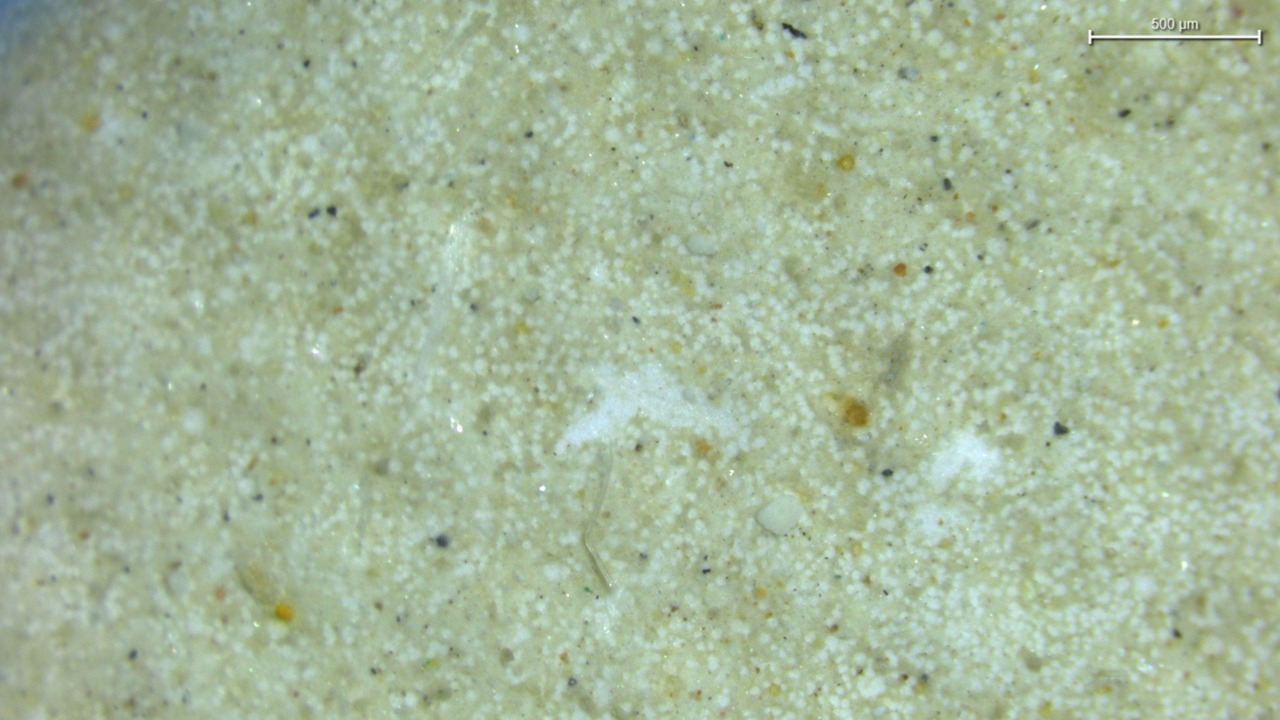microplastic_fragment: (756, 492, 805, 536)
